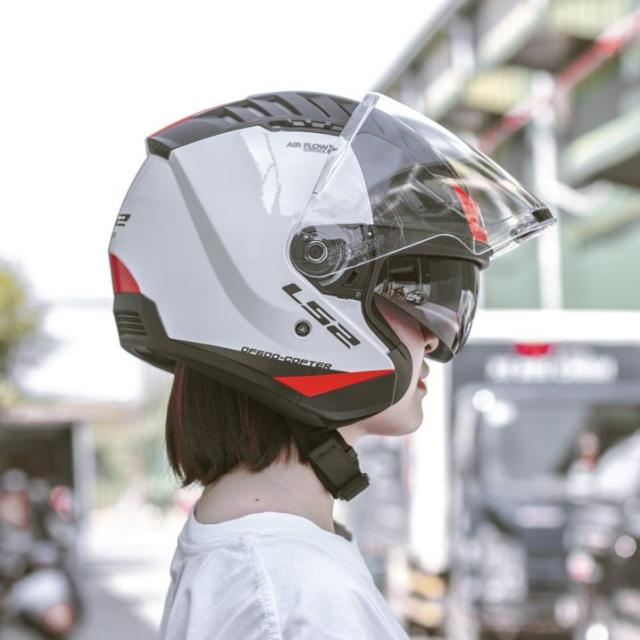3-4-helmet: (109, 89, 559, 427)
